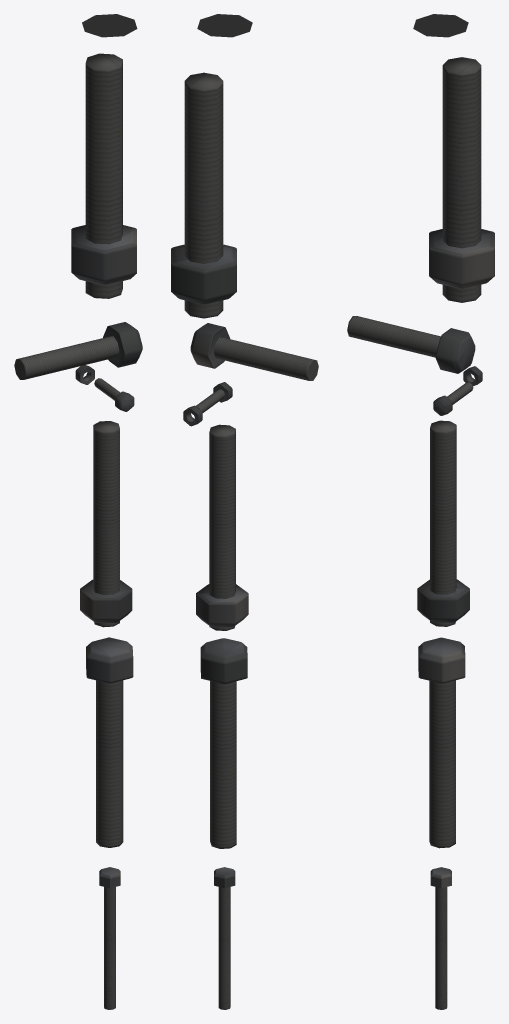
The model's file is boltNew.fbx.
3 views of the same model, side by side, from view 1: azimuth 30°, elevation 25°; view 2: azimuth 150°, elevation 25°; view 3: azimuth 330°, elevation 25° (orthographic).
Visible parts, largest first — view 1: bn_05, bn_06, bn_07, bn_02, bn_01, fac, bn_04; view 2: bn_05, bn_06, bn_07, bn_02, bn_01, fac, bn_04; view 3: bn_05, bn_06, bn_07, bn_02, bn_01, fac, bn_04.
Boxes of the visible parts, x1,y1,x2,y2 form: bn_05: (71,53,136,298); bn_06: (86,637,133,847); bn_07: (80,421,132,627); bn_02: (14,322,142,379); bn_01: (99,867,120,1009); fac: (82,14,137,37); bn_04: (94,378,134,411); bn_05: (171,72,236,318); bn_06: (200,638,247,848); bn_07: (196,424,248,630); bn_02: (190,323,318,380); bn_01: (214,867,235,1009); fac: (197,14,252,37); bn_04: (196,382,232,412); bn_05: (429,57,494,302); bn_06: (418,637,465,848); bn_07: (417,420,469,626); bn_02: (347,316,475,373); bn_01: (430,867,451,1009); fac: (413,14,468,37); bn_04: (433,382,473,415).
Bounding box in the file's own units: 211 × 1541 × 127.
Materials: 1 (1 with a texture image).
